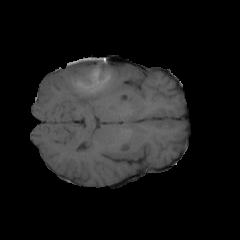glioma: (64, 57, 125, 105)
